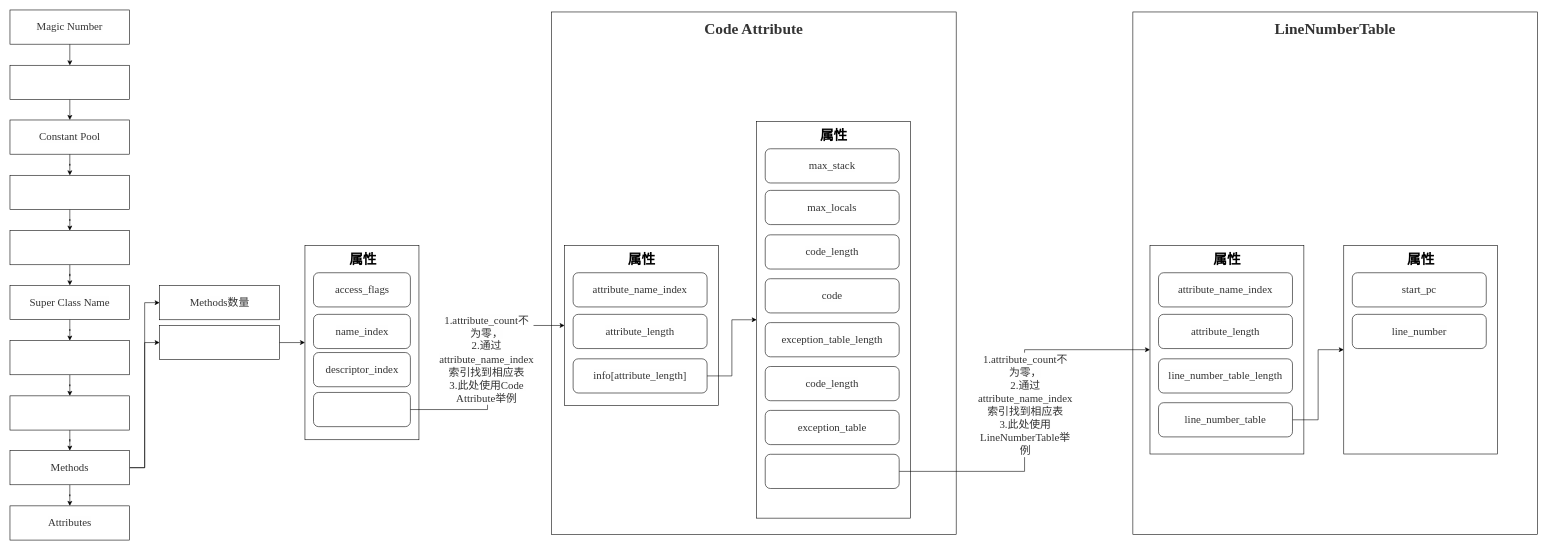
This 1548x550 diagram has some shape labels left out. The box of each missing label's shape, as (x1, y1, x2, y2) in pixels:
Access Flags: (9, 175, 130, 209)
attribute_count: (765, 454, 899, 488)
attributes_count: (313, 392, 410, 427)
Fields: (9, 395, 130, 430)
Interfaces: (9, 340, 130, 375)
Methods 表: (159, 325, 279, 360)
This Class Name: (9, 230, 130, 265)
Version: (9, 65, 130, 99)
